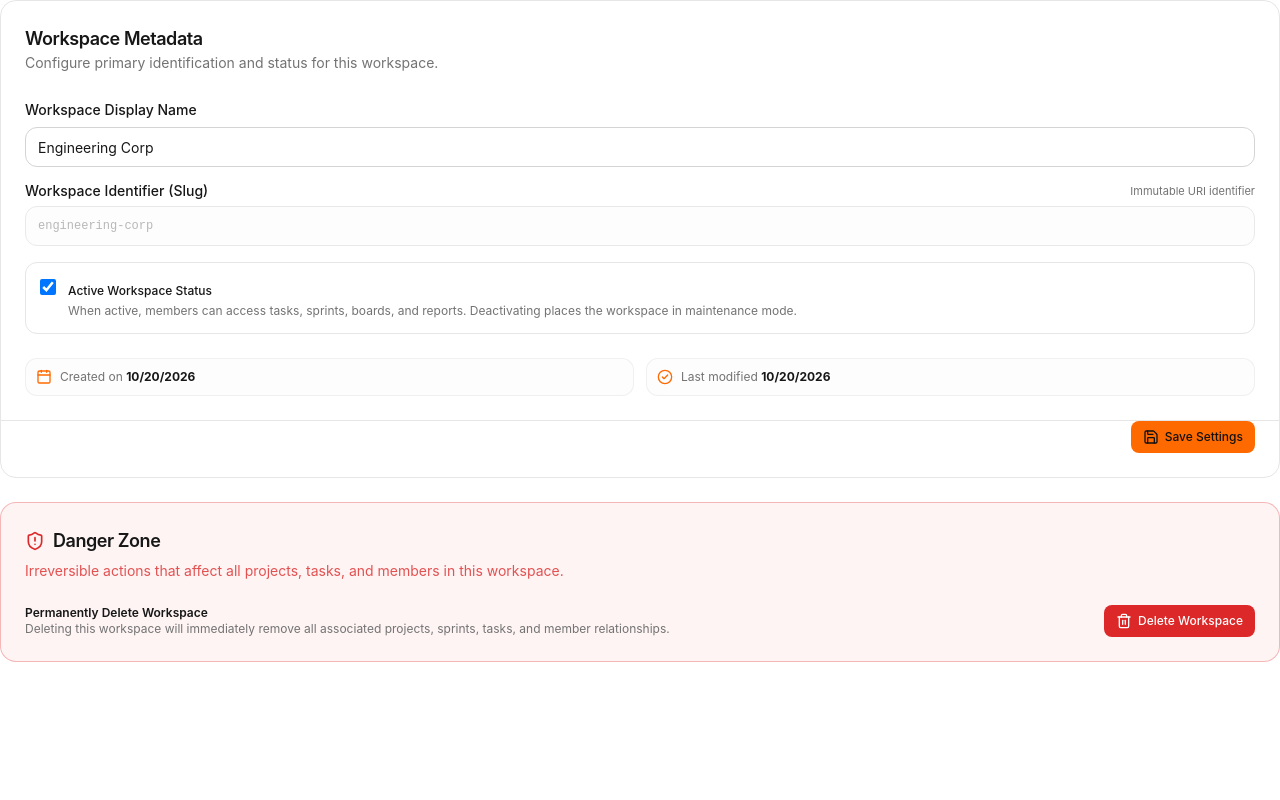
Test: WorkspaceSettingsForm › displays error alert when API update fails
The image size is (1280, 800).
Replace the text in the field labelled "Workspace Display Name" with "Duplicate Name" at (640, 147), box x1=25 y1=127 x2=1255 y2=167
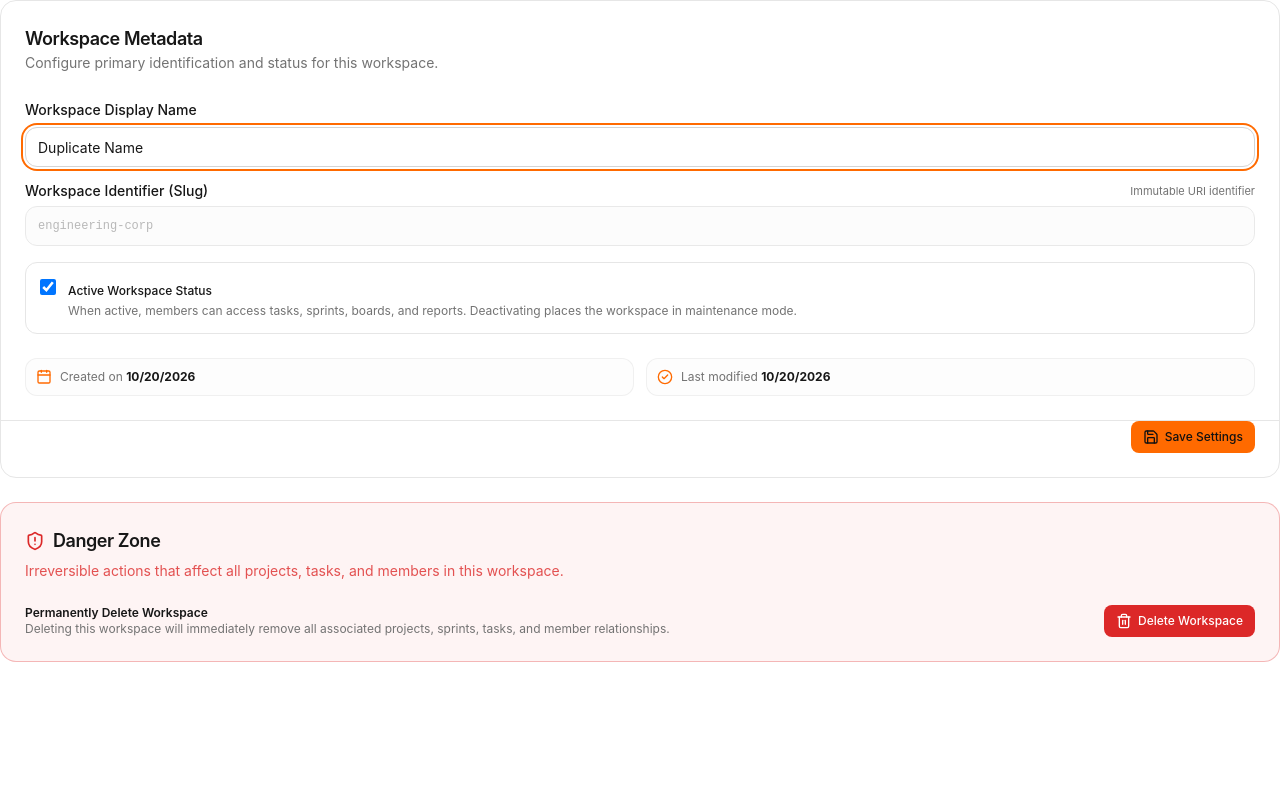
Click the button "Save Settings" at (1193, 436), box x1=1131 y1=420 x2=1255 y2=452
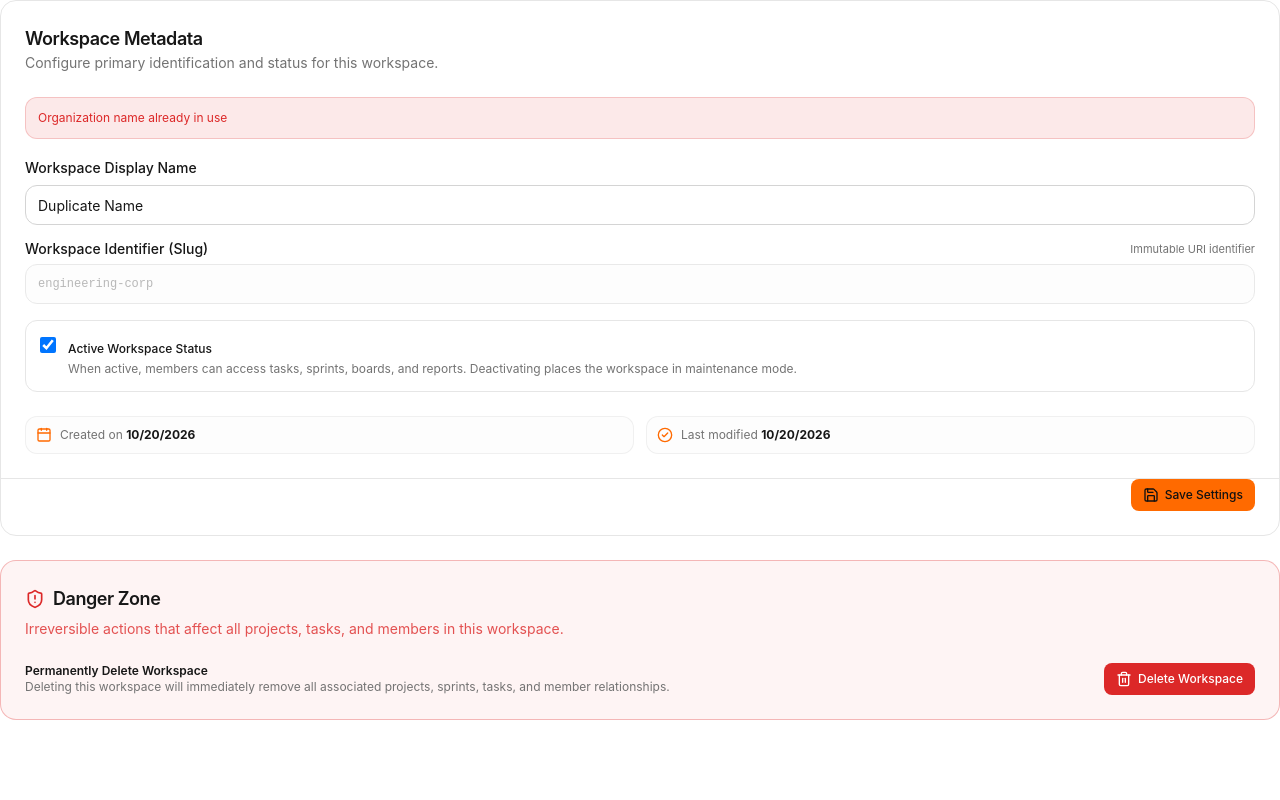
Expected: the text "Organization name already in use" is shown, x1=25 y1=97 x2=1255 y2=139
